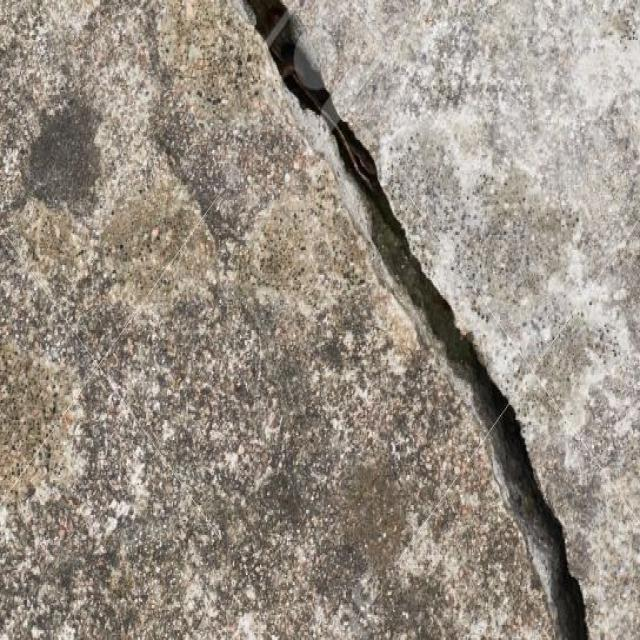Diagonal: (225, 3, 598, 640)
